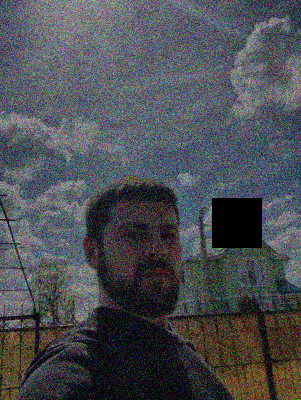without_mask: (112, 214, 183, 319)
